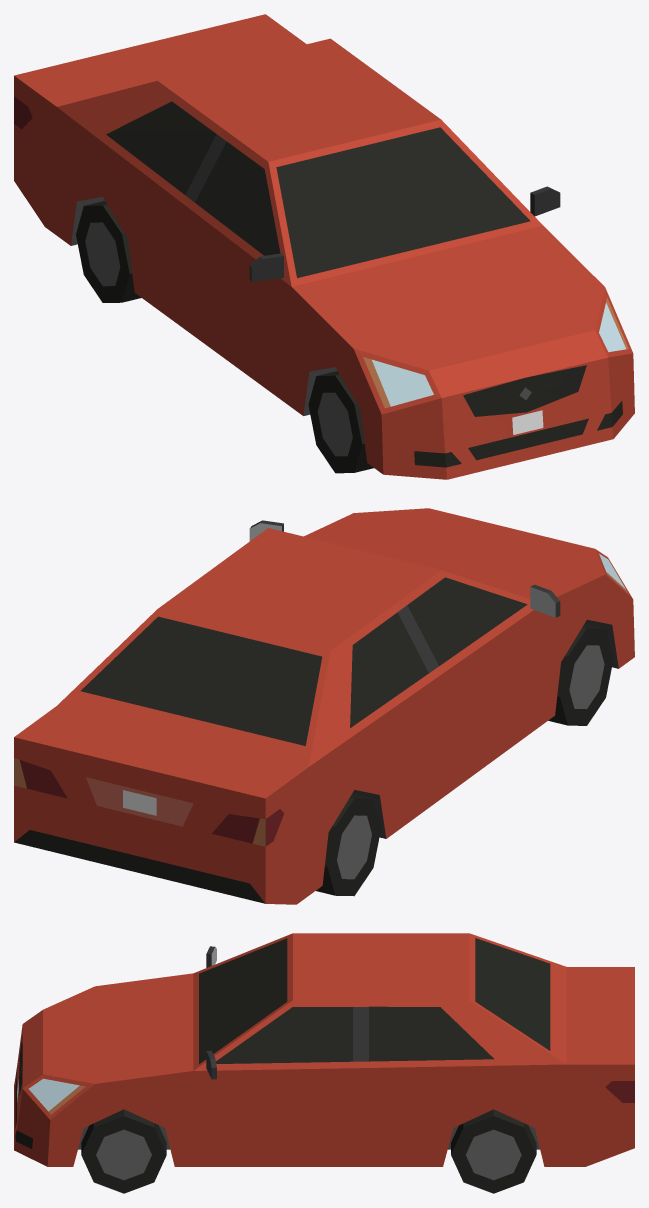
The model's file is Veh_Sedan_03_Red.glb.
3 renders of one model, top to bottom at view 1: azimuth 30°, elevation 25°; view 2: azimuth 150°, elevation 25°; view 3: azimuth 270°, elevation 25°, orthographic. The views are drawn at different scales.
Parts seen in each view (by area): view 1: Sedan_03_Red, Wheel_FR, Wheel_RR; view 2: Sedan_03_Red, Wheel_FR, Wheel_RR; view 3: Sedan_03_Red, Wheel_RL, Wheel_FL.
Part boxes in pixels (<box>): Sedan_03_Red: <box>14,14,634,479</box>; Wheel_FR: <box>308,371,373,473</box>; Wheel_RR: <box>76,201,141,302</box>; Sedan_03_Red: <box>14,508,634,904</box>; Wheel_FR: <box>548,623,613,725</box>; Wheel_RR: <box>316,793,381,896</box>; Sedan_03_Red: <box>14,933,634,1166</box>; Wheel_RL: <box>451,1109,536,1193</box>; Wheel_FL: <box>81,1109,166,1193</box>.
Size of the model in its own units: 1.19 by 0.8272 by 2.61.
1 material, 1 textured.
